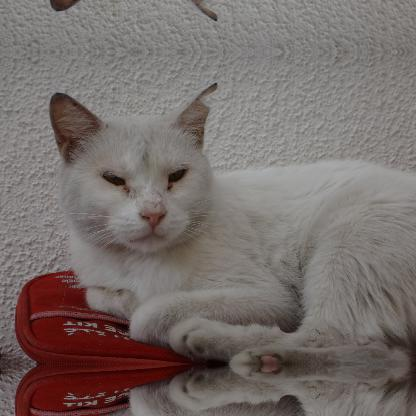Cat: (49, 81, 415, 363)
